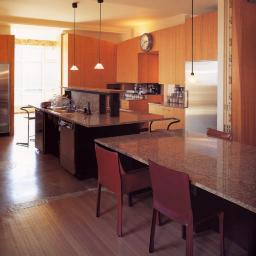Electrodomestico: (186, 62, 217, 129)
